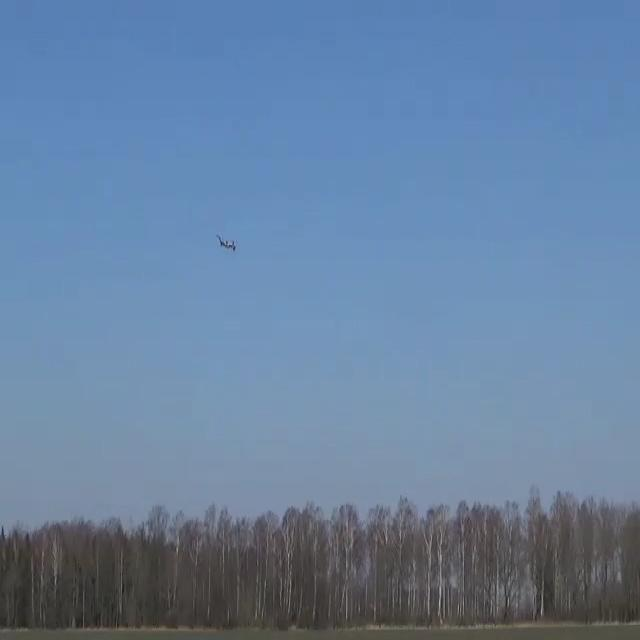drone: (215, 234, 236, 251)
